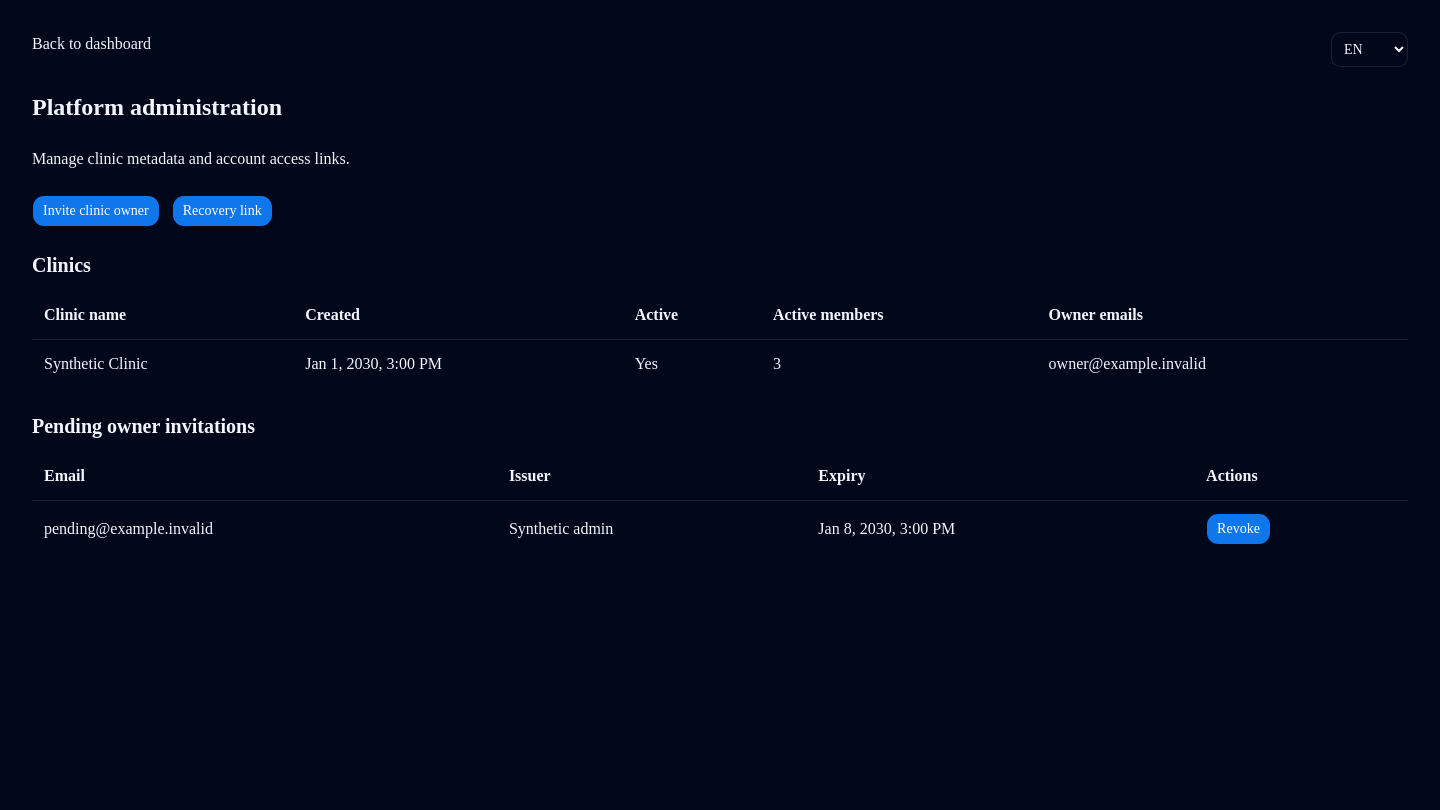
Test case: generates owner link, displays expiry and copies it
The width and height of the screenshot is (1440, 810).
Click the button "Invite clinic owner": (96, 211) [32,195,160,227]
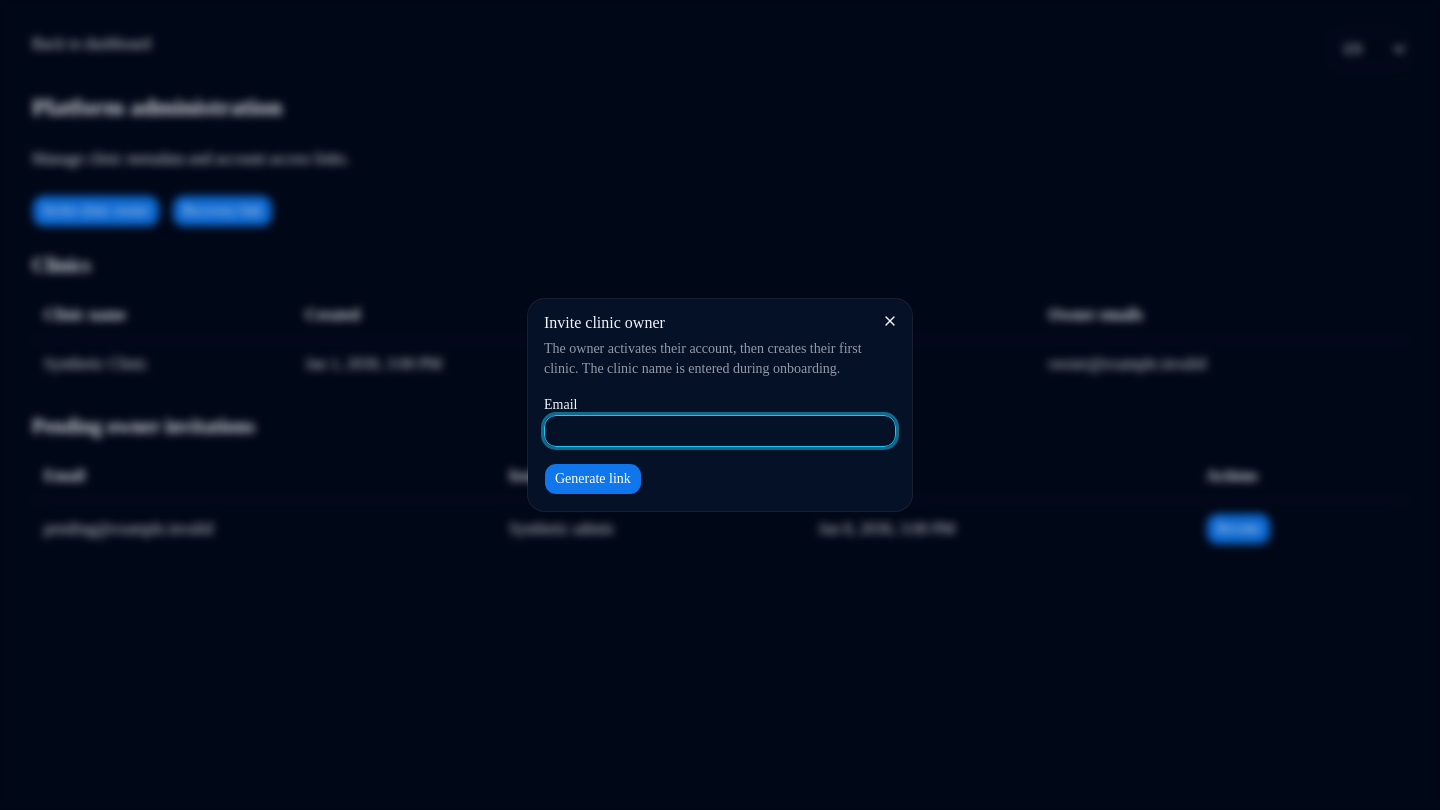
In the field labelled "Email": (720, 431) [544,415,896,447], type "new@example.invalid"
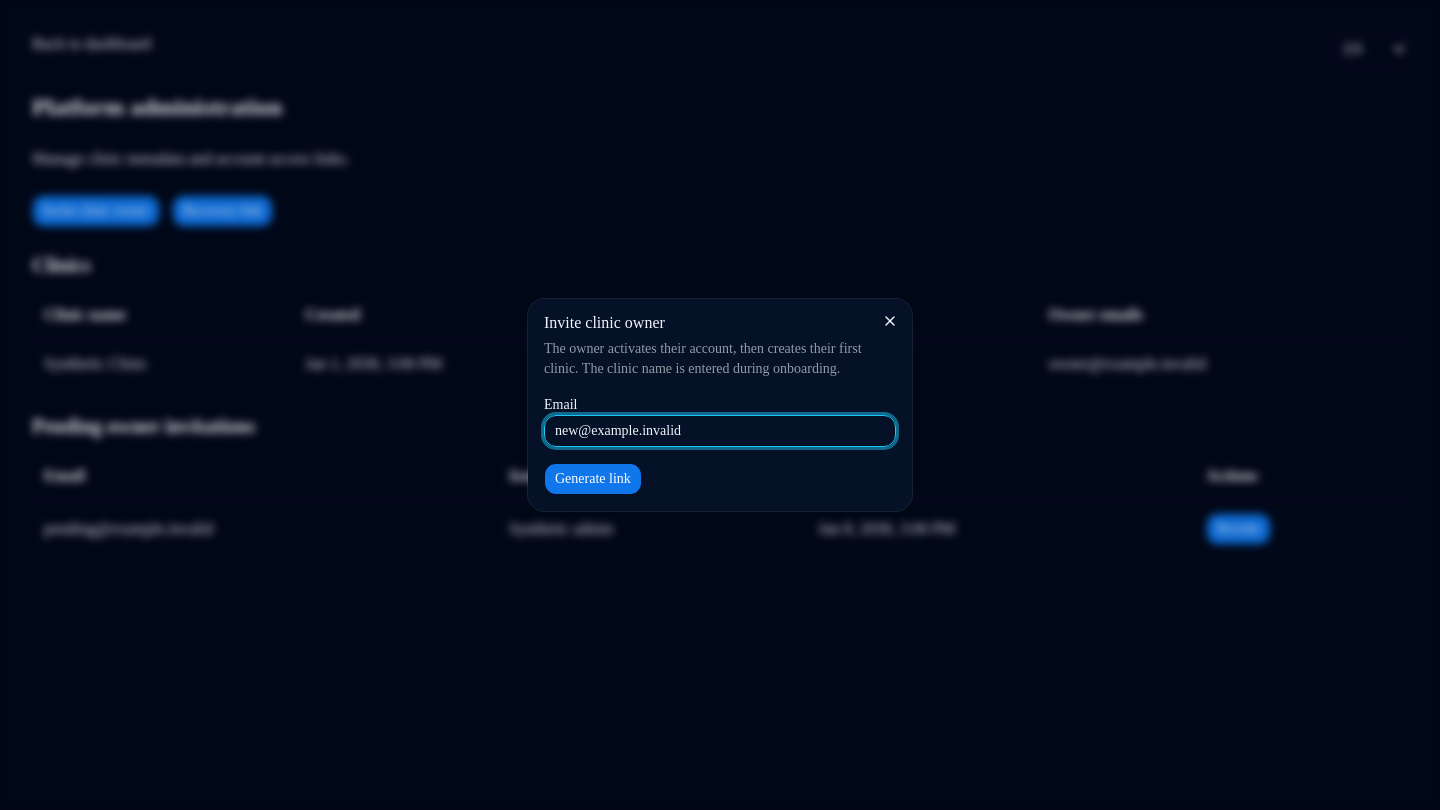
Click the button "Generate link": (593, 479) [544,463,642,495]
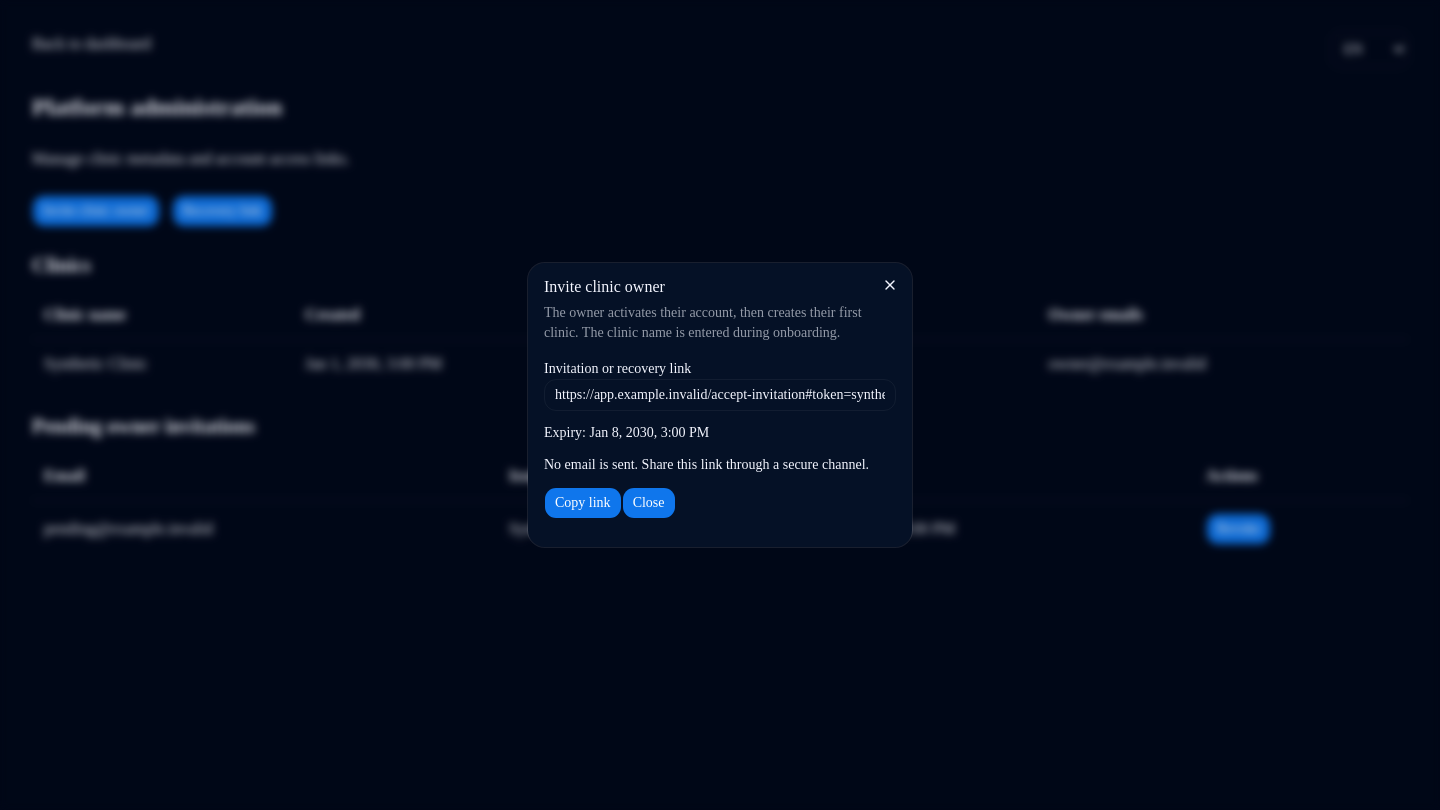
Check: the field labelled "Invitation or recovery link" holds "https://app.example.invalid/accept-invitation#token=synthetic", box [544,379,896,411]
Check: the dialog shows "Jan 8, 2030", box [590,425,709,440]
Click the button "Copy link": (583, 503) [544,487,622,519]
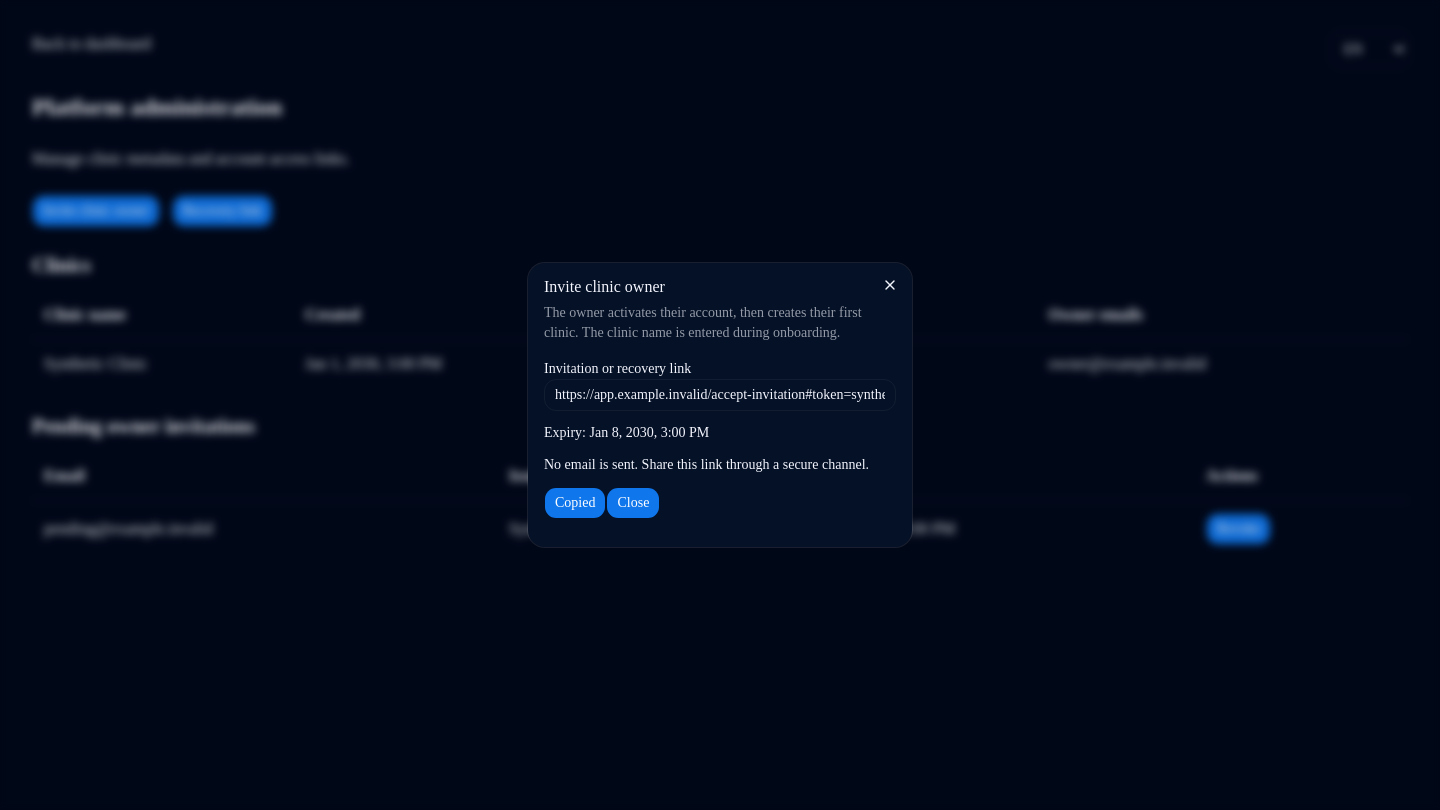
Check: the button "Copied" is shown, box [544,487,606,519]
